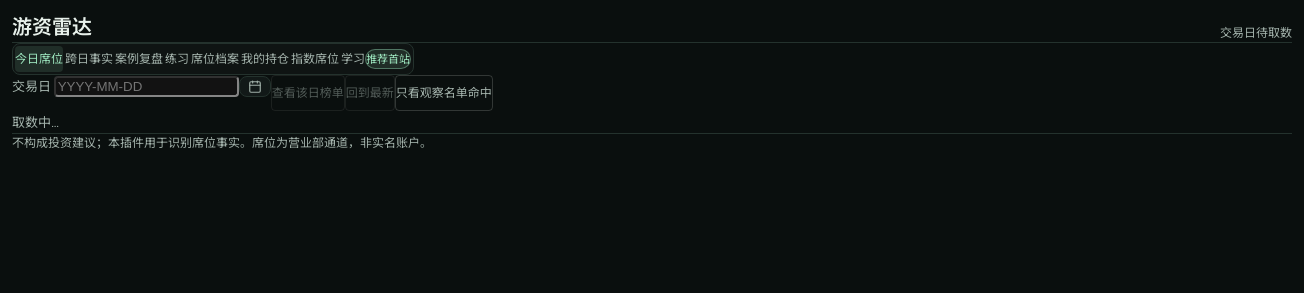
Test case: YouziPage · 练习（Y4-03/Y4-04） › ★ Y4-03 当日无匹配时说明可换历史区间，不显示空表凑题
The width and height of the screenshot is (1304, 293).
Click the button titled "用真实披露事实做识别与复盘练习" at (177, 59), box [165, 46, 189, 72]
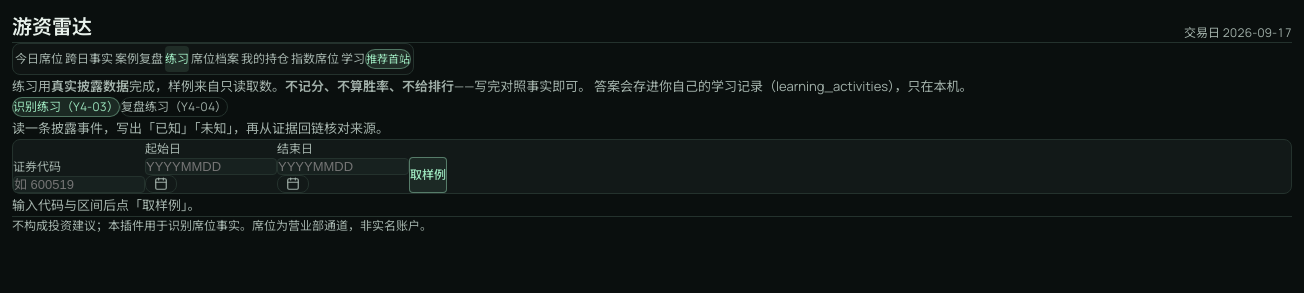
Now the button "取样例" is shown, box [409, 157, 447, 193]
Type "600519" into the field with placeholder "如 600519" at (79, 185), box [13, 176, 145, 193]
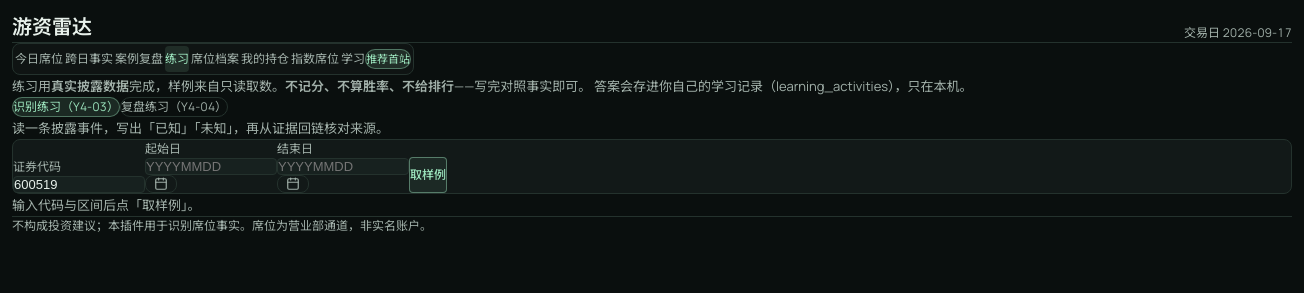
Type "20260907" into the field with placeholder "YYYYMMDD" at (211, 167), box [145, 158, 277, 175]
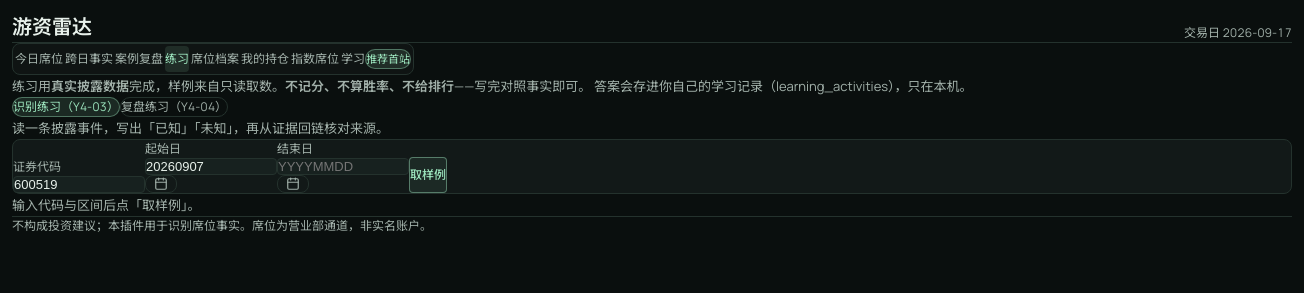
Type "20260917" into the field with placeholder "YYYYMMDD" at (343, 167), box [277, 158, 409, 175]
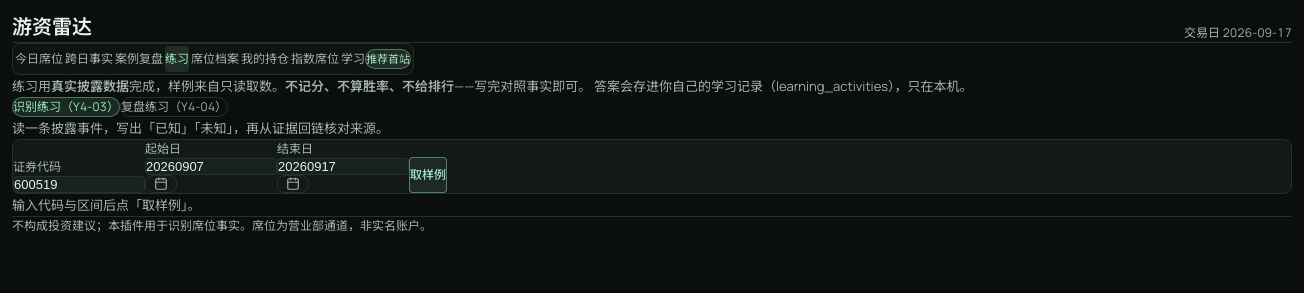
Click the button "取样例" at (428, 175), box [409, 157, 447, 193]
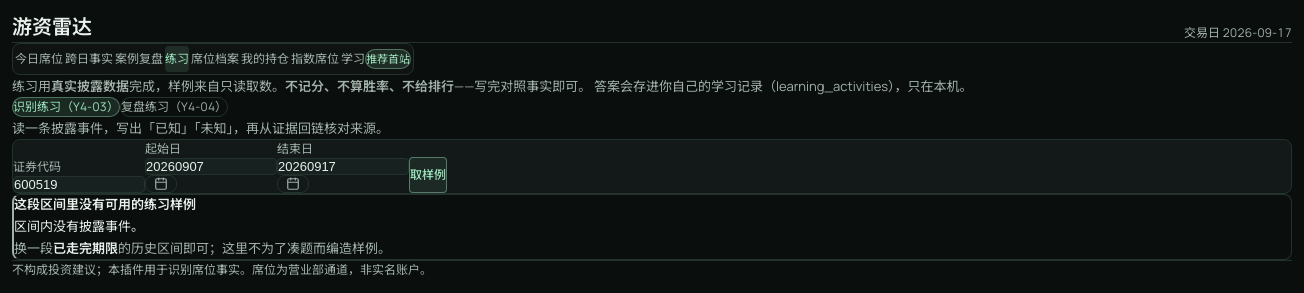
Now the text "这段区间里没有可用的练习样例" is shown, box [14, 195, 196, 215]
Now the text "不为了凑题而编造样例" is shown, box [118, 239, 391, 257]
